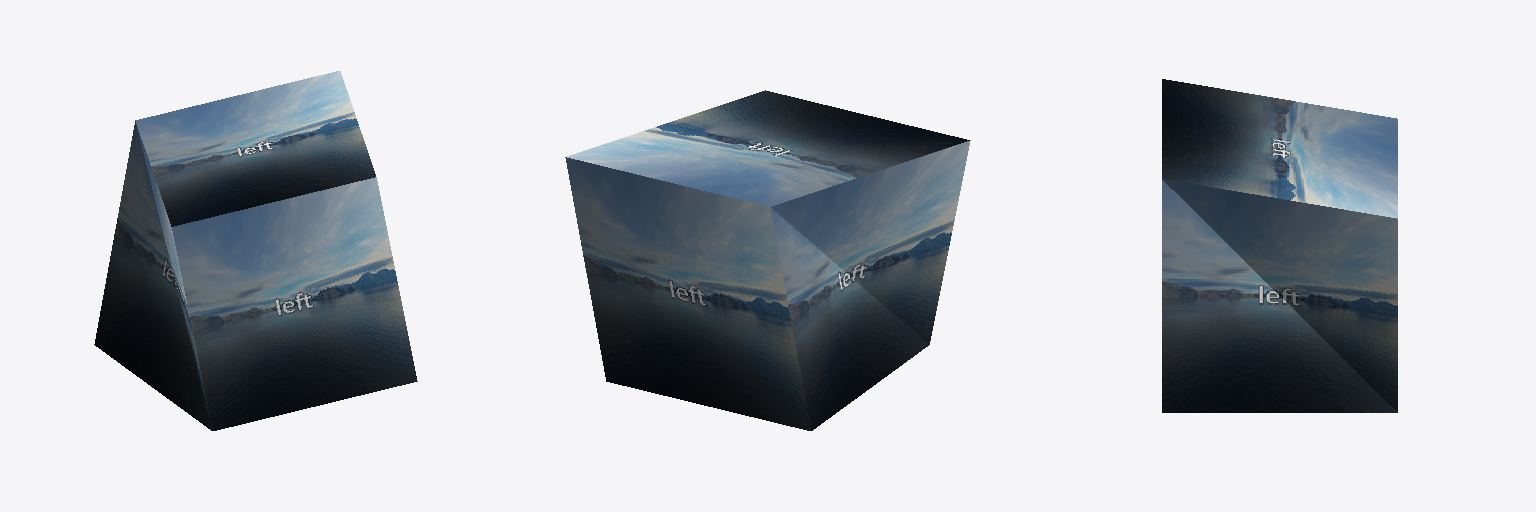
The picture shows the model from 3 angles: view 1: azimuth 30°, elevation 25°; view 2: azimuth 150°, elevation 25°; view 3: azimuth 270°, elevation 25°; orthographic projection.
Visible parts, largest first — view 1: cube; view 2: cube; view 3: cube.
Boxes of the visible parts, x1,y1,x2,y2 form: cube: [94, 71, 417, 430]; cube: [565, 90, 970, 430]; cube: [1162, 79, 1397, 412].
Bounding box in the file's own units: 1.4 × 1 × 1.
6 materials, 1 textured.